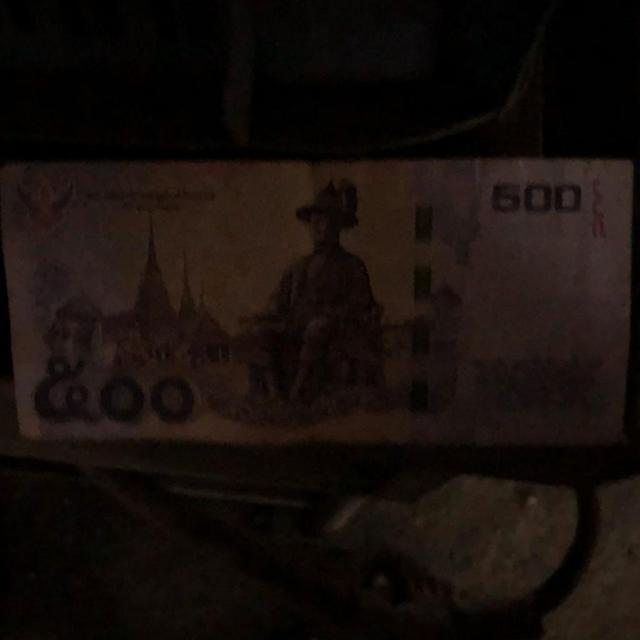THAI500: (0, 158, 632, 447)
